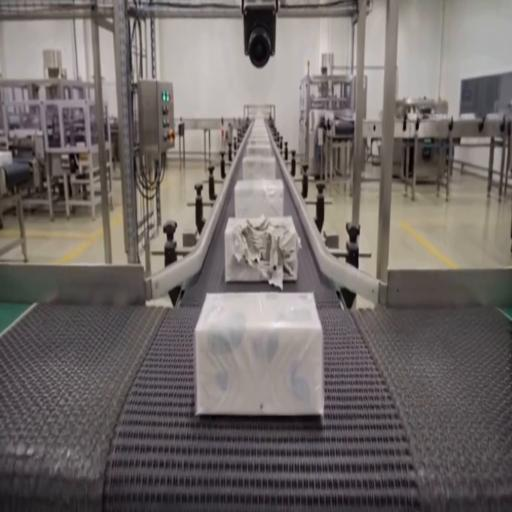defective: (195, 291, 322, 418), (224, 215, 300, 285)
good: (234, 178, 284, 219), (242, 154, 278, 180), (245, 118, 272, 142), (247, 145, 276, 166)
